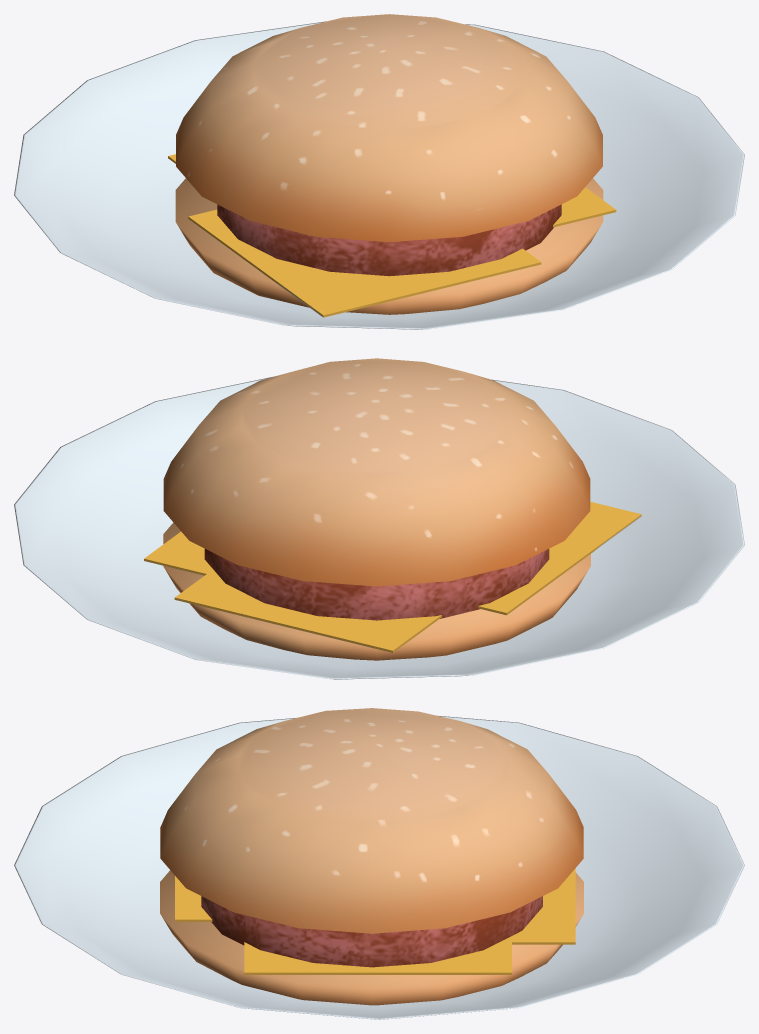
The model's file is Hamburguesa.fbx.
3 views of the same model, one above another, from view 1: azimuth 30°, elevation 25°; view 2: azimuth 150°, elevation 25°; view 3: azimuth 270°, elevation 25° (orthographic).
Visible parts, largest first — view 1: Hamburguesa; view 2: Hamburguesa; view 3: Hamburguesa.
Boxes of the visible parts, x1=… form: Hamburguesa: x1=14, y1=14, x2=744, y2=329; Hamburguesa: x1=14, y1=358, x2=744, y2=679; Hamburguesa: x1=14, y1=708, x2=744, y2=1019.
Bounding box in the file's own units: 27.8 × 8.02 × 27.8.
1 material, 1 textured.
